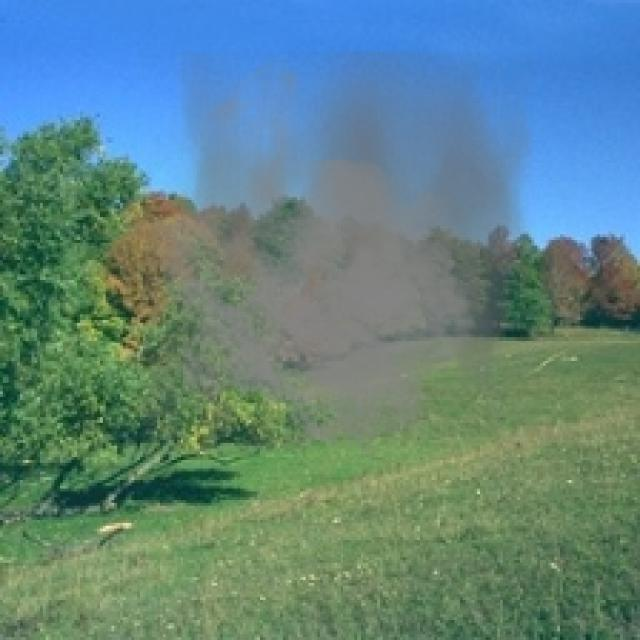smoke: (140, 52, 534, 457)
